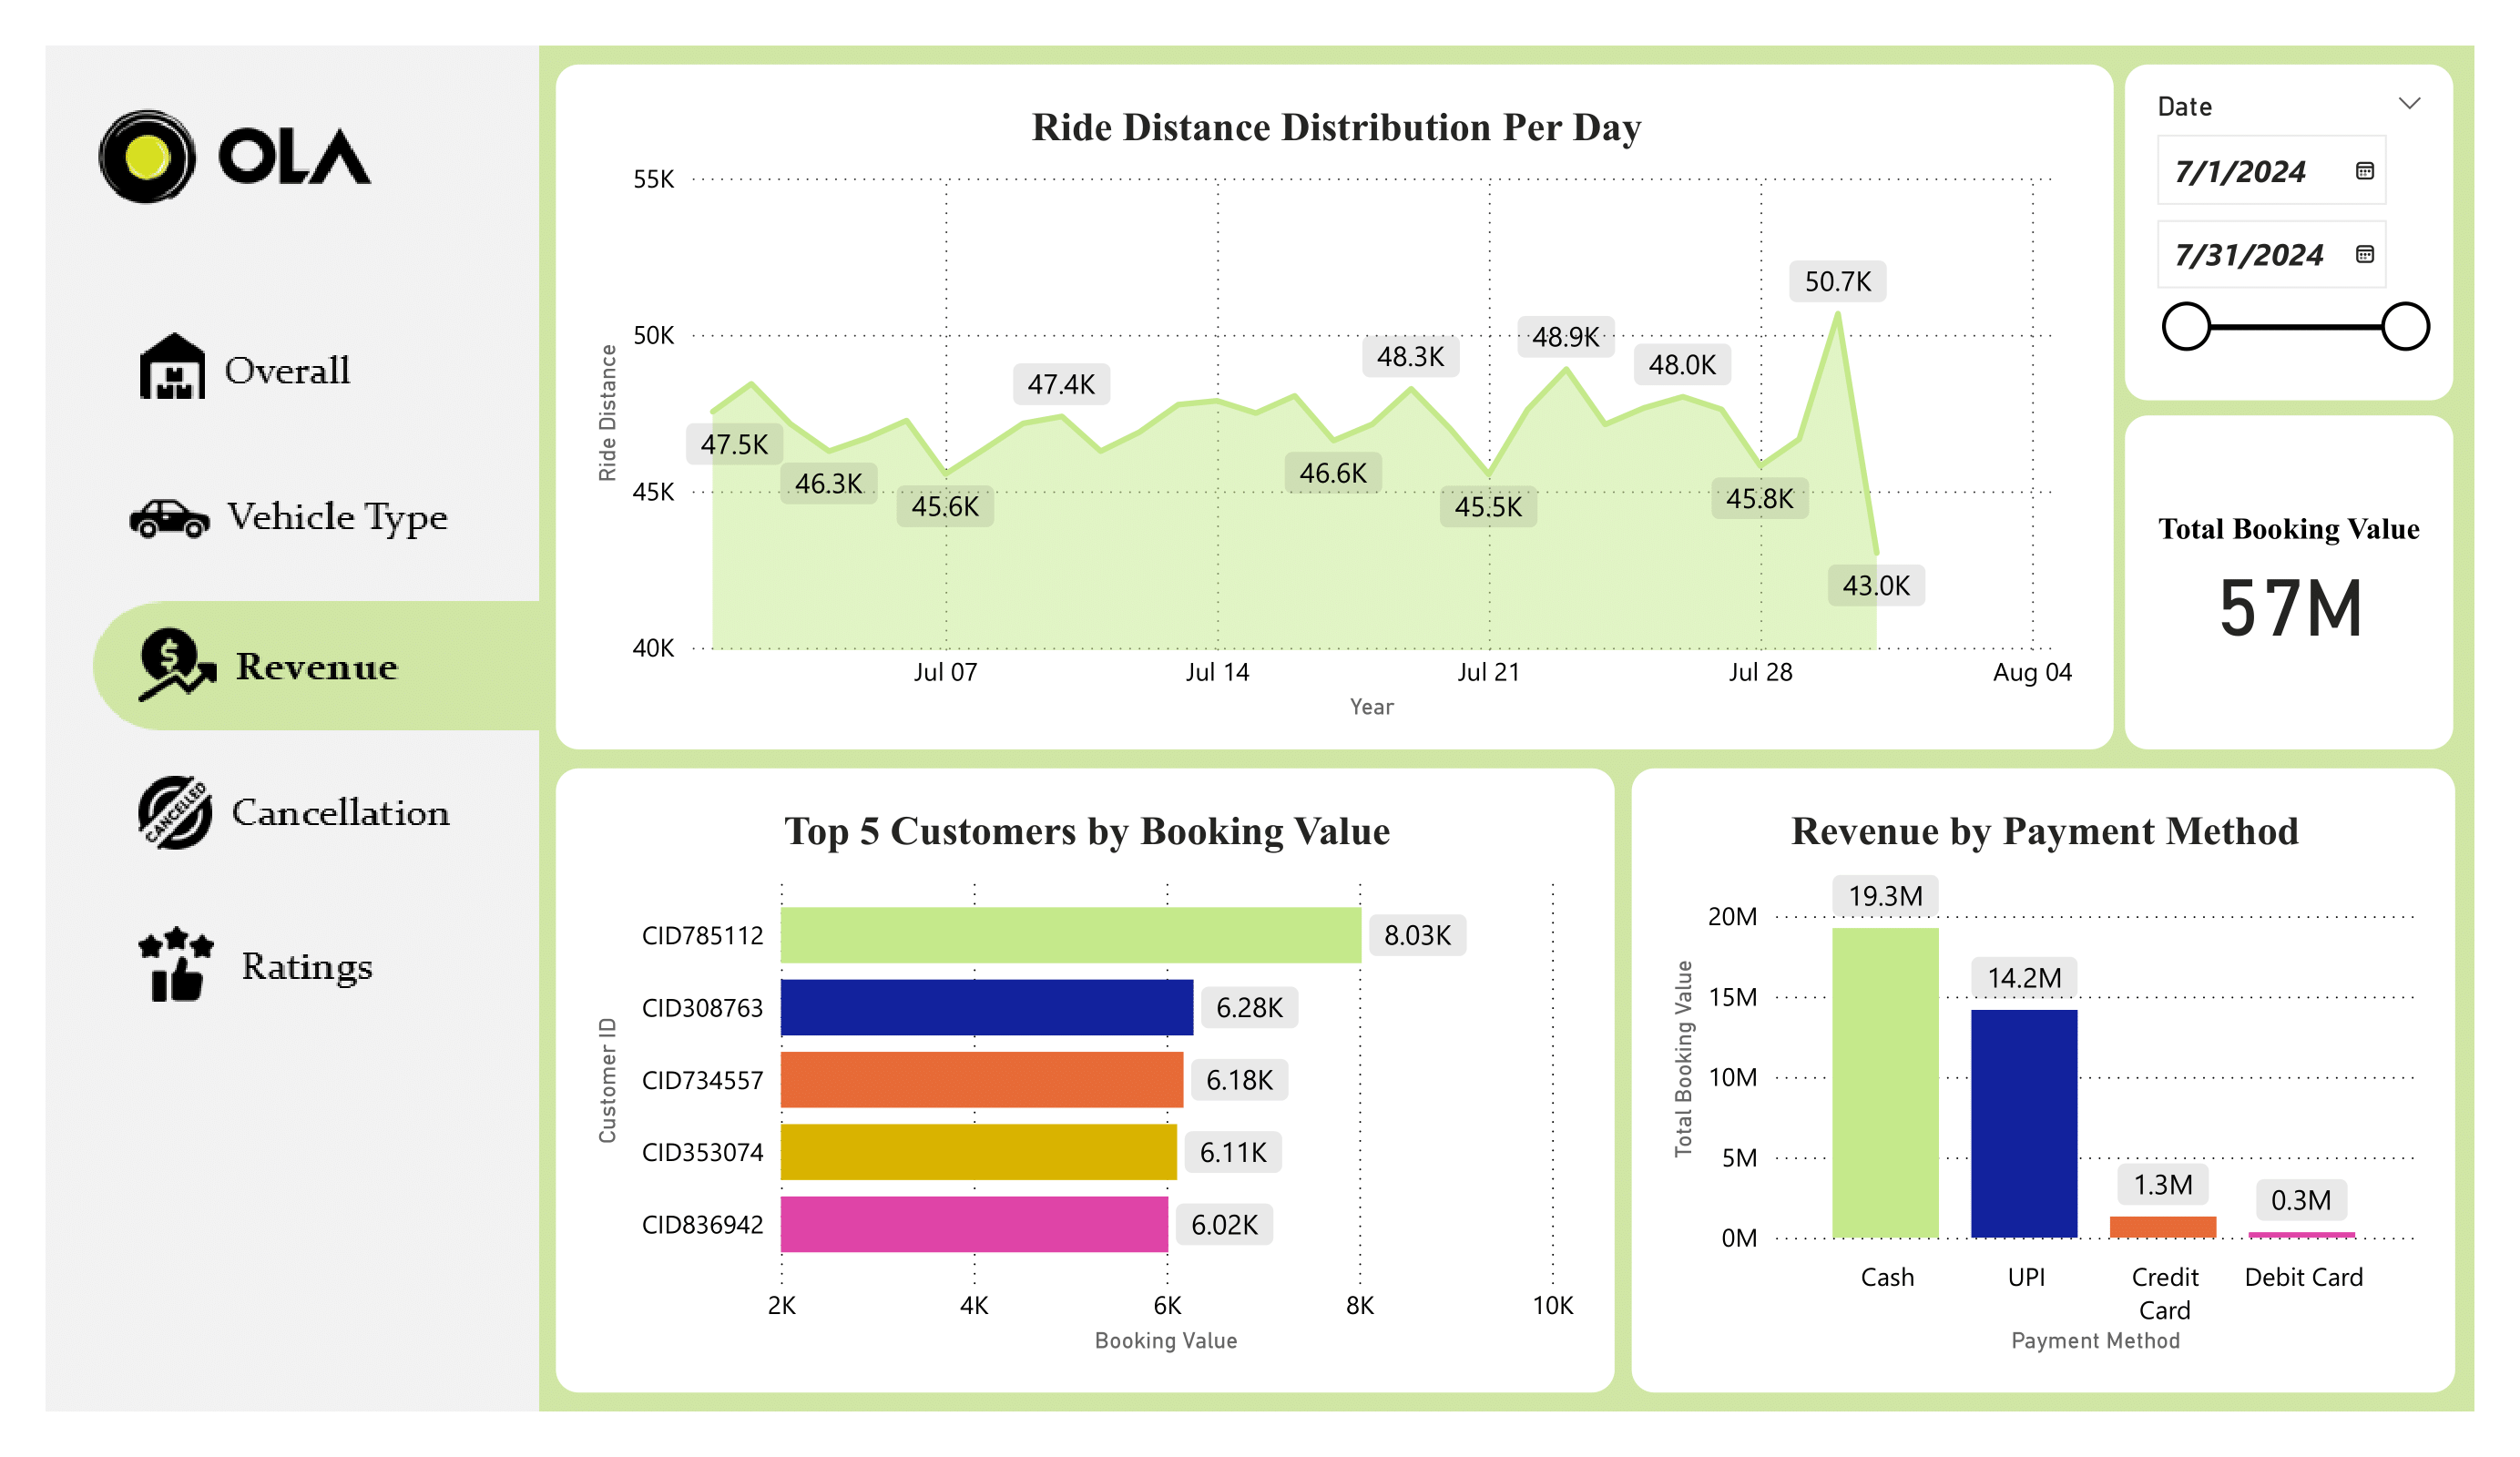

What the dashboard file says about the page in this screenshot:
{"tool":"powerbi","page":{"name":"Revenue","canvas":[1280,720],"ordinal":2},"visuals":[{"type":"actionButton","box":[25,212.5,237.5,72.5],"z":0},{"type":"actionButton","box":[23.8,370,237.5,72.5],"z":1000},{"type":"actionButton","box":[23.8,448.8,237.5,72.5],"z":2000},{"type":"actionButton","box":[23.8,132.5,237.5,72.5],"z":3000},{"type":"clusteredBarChart","title":"Top 5 Customers by Booking Value","fields":{"Y":["Bookings-100000-Rows.Total Booking Value"],"Category":["Bookings-100000-Rows.Customer_ID"]},"box":[268.8,380.5,558.4,329.9],"z":4000},{"type":"clusteredColumnChart","title":"Revenue by Payment Method","fields":{"Category":["Bookings-100000-Rows.Payment_Method"],"Y":["Bookings-100000-Rows.Total Booking Value"]},"box":[836.4,380.5,433.8,329.9],"z":5000},{"type":"lineChart","title":"Ride Distance Distribution  Per Day","fields":{"Y":["Bookings-100000-Rows.Total Distance Travelled (km)"],"Category":["Bookings-100000-Rows.Date.Variation.Date Hierarchy.Year","Bookings-100000-Rows.Date.Variation.Date Hierarchy.Quarter","Bookings-100000-Rows.Date.Variation.Date Hierarchy.Month","Bookings-100000-Rows.Date.Variation.Date Hierarchy.Day"]},"box":[268.8,10.4,820.8,361],"z":6000},{"type":"slicer","title":"Date","fields":{"Values":["Bookings-100000-Rows.Date"]},"box":[1096.1,10.4,172.7,176.6],"z":8000},{"type":"cardVisual","fields":{"Data":["Bookings-100000-Rows.Total Booking Value"]},"box":[1096.1,194.8,172.7,176.6],"z":9000}]}

Visuals, with their boxes on the page's 1280x720 design canvas (x1, y1, x2, y2). These are canvas units, not pixel positions in the 2520x1457 screenshot, which may show the page scaled, cropped or inside an application window:
actionButton: Rect(25, 212, 262, 285)
actionButton: Rect(24, 370, 261, 442)
actionButton: Rect(24, 449, 261, 521)
actionButton: Rect(24, 132, 261, 205)
"Top 5 Customers by Booking Value" clusteredBarChart: Rect(269, 380, 827, 710)
"Revenue by Payment Method" clusteredColumnChart: Rect(836, 380, 1270, 710)
"Ride Distance Distribution  Per Day" lineChart: Rect(269, 10, 1090, 371)
"Date" slicer: Rect(1096, 10, 1269, 187)
cardVisual - Bookings-100000-Rows.Total Booking Value: Rect(1096, 195, 1269, 371)
